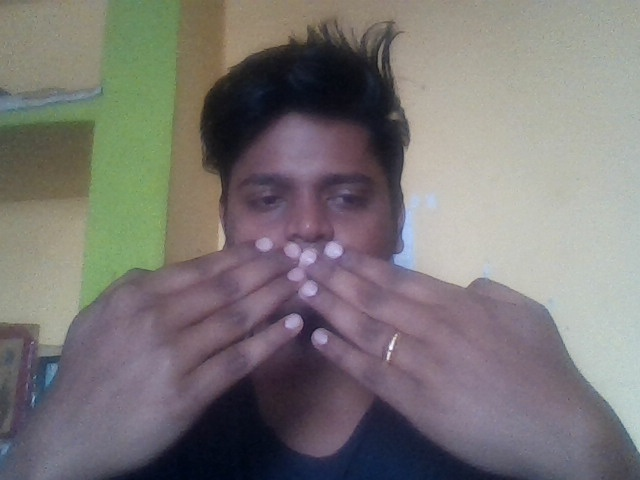thanks: (27, 220, 640, 466)
